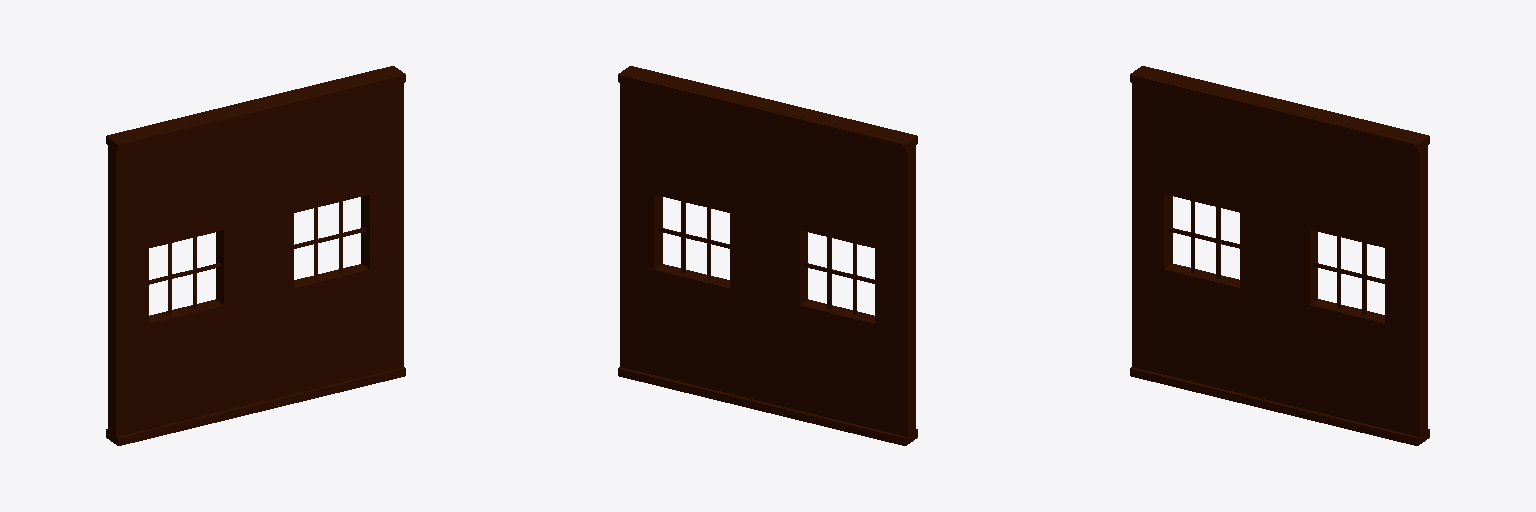
File: 8x8_wall_2_window_noglass.obj
3 views of the same model, side by side, from view 1: azimuth 30°, elevation 25°; view 2: azimuth 150°, elevation 25°; view 3: azimuth 330°, elevation 25° (orthographic).
Parts seen in each view (by area): view 1: wall; view 2: wall; view 3: wall.
Part boxes in pixels (left/top/right/bottom): wall: left=106, top=66, right=405, bottom=445; wall: left=618, top=66, right=917, bottom=445; wall: left=1130, top=66, right=1429, bottom=445.
Bounding box in the file's own units: 8 × 8 × 0.607.